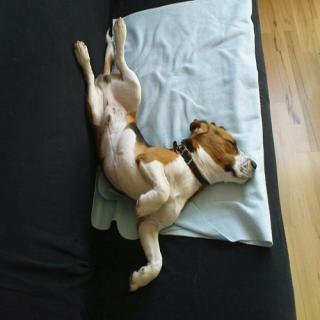dog: (189, 114, 261, 194)
